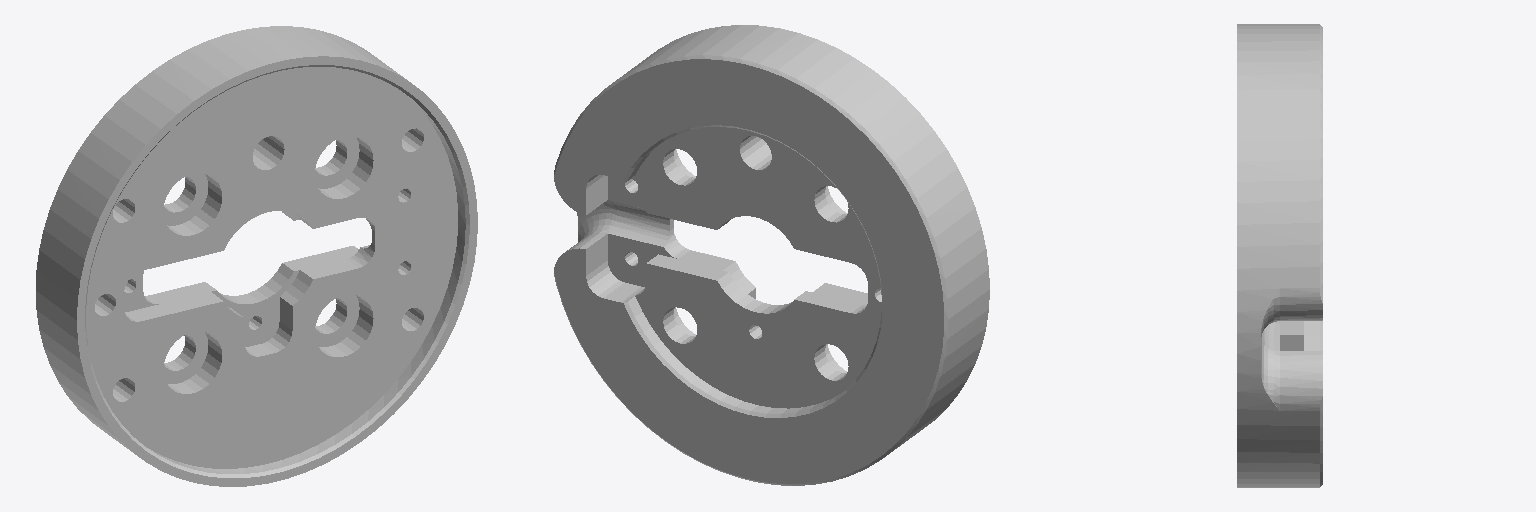
The model's file is robotiq_arg2f_coupling_vis.obj.
3 renders of one model, left to right at view 1: azimuth 30°, elevation 25°; view 2: azimuth 150°, elevation 25°; view 3: azimuth 270°, elevation 25°, orthographic.
Parts seen in each view (by area): view 1: Robotiq_Arg2F_Coupling_Vis; view 2: Robotiq_Arg2F_Coupling_Vis; view 3: Robotiq_Arg2F_Coupling_Vis.
Boxes of the visible parts, box(x1,y1,x2,y2) form: Robotiq_Arg2F_Coupling_Vis: box(36, 26, 477, 486); Robotiq_Arg2F_Coupling_Vis: box(554, 25, 989, 485); Robotiq_Arg2F_Coupling_Vis: box(1237, 24, 1322, 487).
Size of the model in its own units: 75 by 74.93 by 13.9.